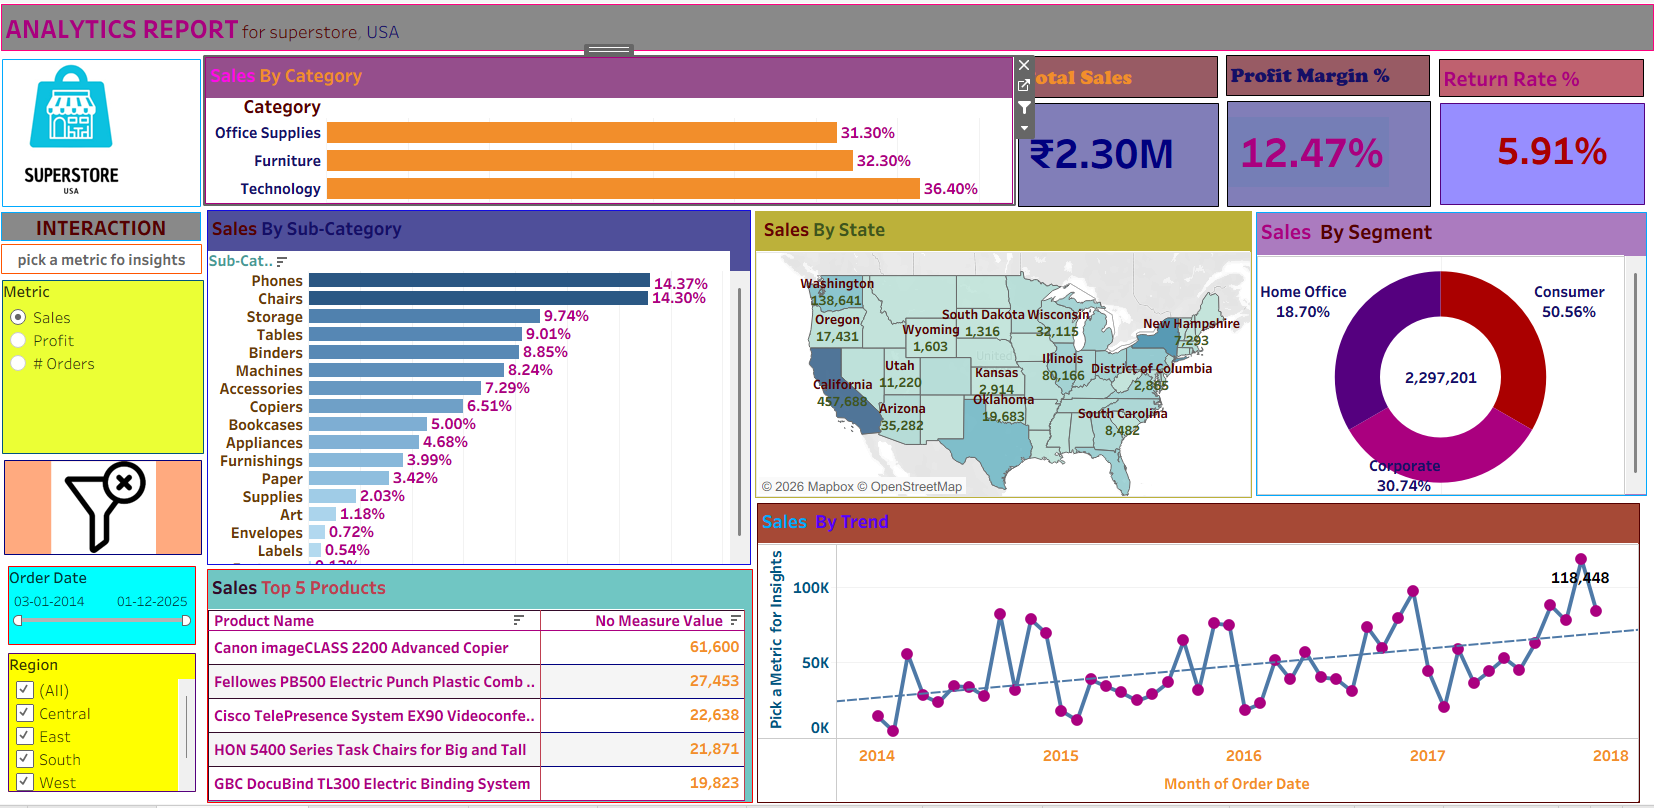

Layout of this report page (visuals, bound fields, positions):
{"tool":"tableau","page":{"name":"Analytics Report","canvas":[1000,1000],"units":"permille","ordinal":0},"visuals":[{"type":"text","box":[2.4,1.2,997.6,58.7]},{"type":"text","box":[741.7,64.9,123.1,51.2]},{"type":"text","box":[615.6,66.2,121.3,52.4]},{"type":"worksheet","title":"S,P,O by Category ","mark":"Automatic","rows":["Category"],"cols":["Calculation_846113791807037445"],"box":[125.8,67.4,487.9,183.5]},{"type":"image","param":"Image/Screenshot 2025-11-29 203807.png","box":[3.1,69.9,119.9,184.8]},{"type":"text","box":[870.2,69.9,123.7,47.4]},{"type":"worksheet","title":"Profit Mragin %","mark":"Automatic","box":[742.3,122.4,123.1,132.3]},{"type":"worksheet","title":"Total Sales Kpi Card","mark":"Text","box":[616.2,124.8,121.3,129.8]},{"type":"worksheet","title":"Return Rate 1","mark":"Automatic","box":[870.9,124.8,123.7,127.3]},{"type":"worksheet","title":"S.P.O By sub-category","mark":"Automatic","rows":["Sub-Category"],"cols":["Calculation_846113791807037445"],"box":[126.8,258.4,328.3,443.2]},{"type":"worksheet","title":"S.P.O By State","mark":"Automatic","box":[457.6,259.7,300.1,358.3]},{"type":"text","box":[2.5,260.9,120.5,36.2]},{"type":"worksheet","title":"Donut chart of Segment","mark":"Pie","cols":["Calculation_846113791868211207","Calculation_846113791868411913"],"box":[759.6,260.9,236,354.6]},{"type":"text","box":[2.5,300.9,121.2,37.5]},{"type":"parameter","param":"[Parameters].[Parameter 3]","box":[3,345.8,121.9,217.2]},{"type":"dashboard-object","box":[4.2,570.5,119.5,118.6]},{"type":"worksheet","title":"Line Chart","mark":"Line","rows":["Calculation_846113791807037445","Pick a Metric  for Insights  (copy)_1713619670368624642"],"cols":["Order Date"],"box":[458.7,624.2,532.9,374.5]},{"type":"filter","title":"S.P.O By sub-category","param":"[federated.15jfeft0scnmxp11nip200ga6h9x].[none:Order Date:qk]","box":[4.2,697.9,118.3,108.6]},{"type":"worksheet","title":"Top 5 Products","mark":"Automatic","rows":["Product Name"],"box":[127,706.6,329.5,292.1]},{"type":"filter","title":"Line Chart","param":"[federated.15jfeft0scnmxp11nip200ga6h9x].[none:Region:nk]","box":[4.2,806.5,118.3,183.5]}]}

Visuals, with their boxes on the dashboard's canvas, which has no fixed pixel size, in thousandths of its width and height (x1, y1, x2, y2). These are canvas units, not pixel positions in the 1654x808 screenshot, which may show the page scaled, cropped or inside an application window:
text: {"x1": 2, "y1": 1, "x2": 1000, "y2": 60}
text: {"x1": 742, "y1": 65, "x2": 865, "y2": 116}
text: {"x1": 616, "y1": 66, "x2": 737, "y2": 119}
"S,P,O by Category " worksheet: {"x1": 126, "y1": 67, "x2": 614, "y2": 251}
image: {"x1": 3, "y1": 70, "x2": 123, "y2": 255}
text: {"x1": 870, "y1": 70, "x2": 994, "y2": 117}
"Profit Mragin %" worksheet: {"x1": 742, "y1": 122, "x2": 865, "y2": 255}
"Total Sales Kpi Card" worksheet (Text marks): {"x1": 616, "y1": 125, "x2": 738, "y2": 255}
"Return Rate 1" worksheet: {"x1": 871, "y1": 125, "x2": 995, "y2": 252}
"S.P.O By sub-category" worksheet: {"x1": 127, "y1": 258, "x2": 455, "y2": 702}
"S.P.O By State" worksheet: {"x1": 458, "y1": 260, "x2": 758, "y2": 618}
text: {"x1": 2, "y1": 261, "x2": 123, "y2": 297}
"Donut chart of Segment" worksheet (Pie marks): {"x1": 760, "y1": 261, "x2": 996, "y2": 616}
text: {"x1": 2, "y1": 301, "x2": 124, "y2": 338}
parameter: {"x1": 3, "y1": 346, "x2": 125, "y2": 563}
dashboard-object: {"x1": 4, "y1": 570, "x2": 124, "y2": 689}
"Line Chart" worksheet (Line marks): {"x1": 459, "y1": 624, "x2": 992, "y2": 999}
"S.P.O By sub-category" filter: {"x1": 4, "y1": 698, "x2": 122, "y2": 806}
"Top 5 Products" worksheet: {"x1": 127, "y1": 707, "x2": 456, "y2": 999}
"Line Chart" filter: {"x1": 4, "y1": 806, "x2": 122, "y2": 990}
